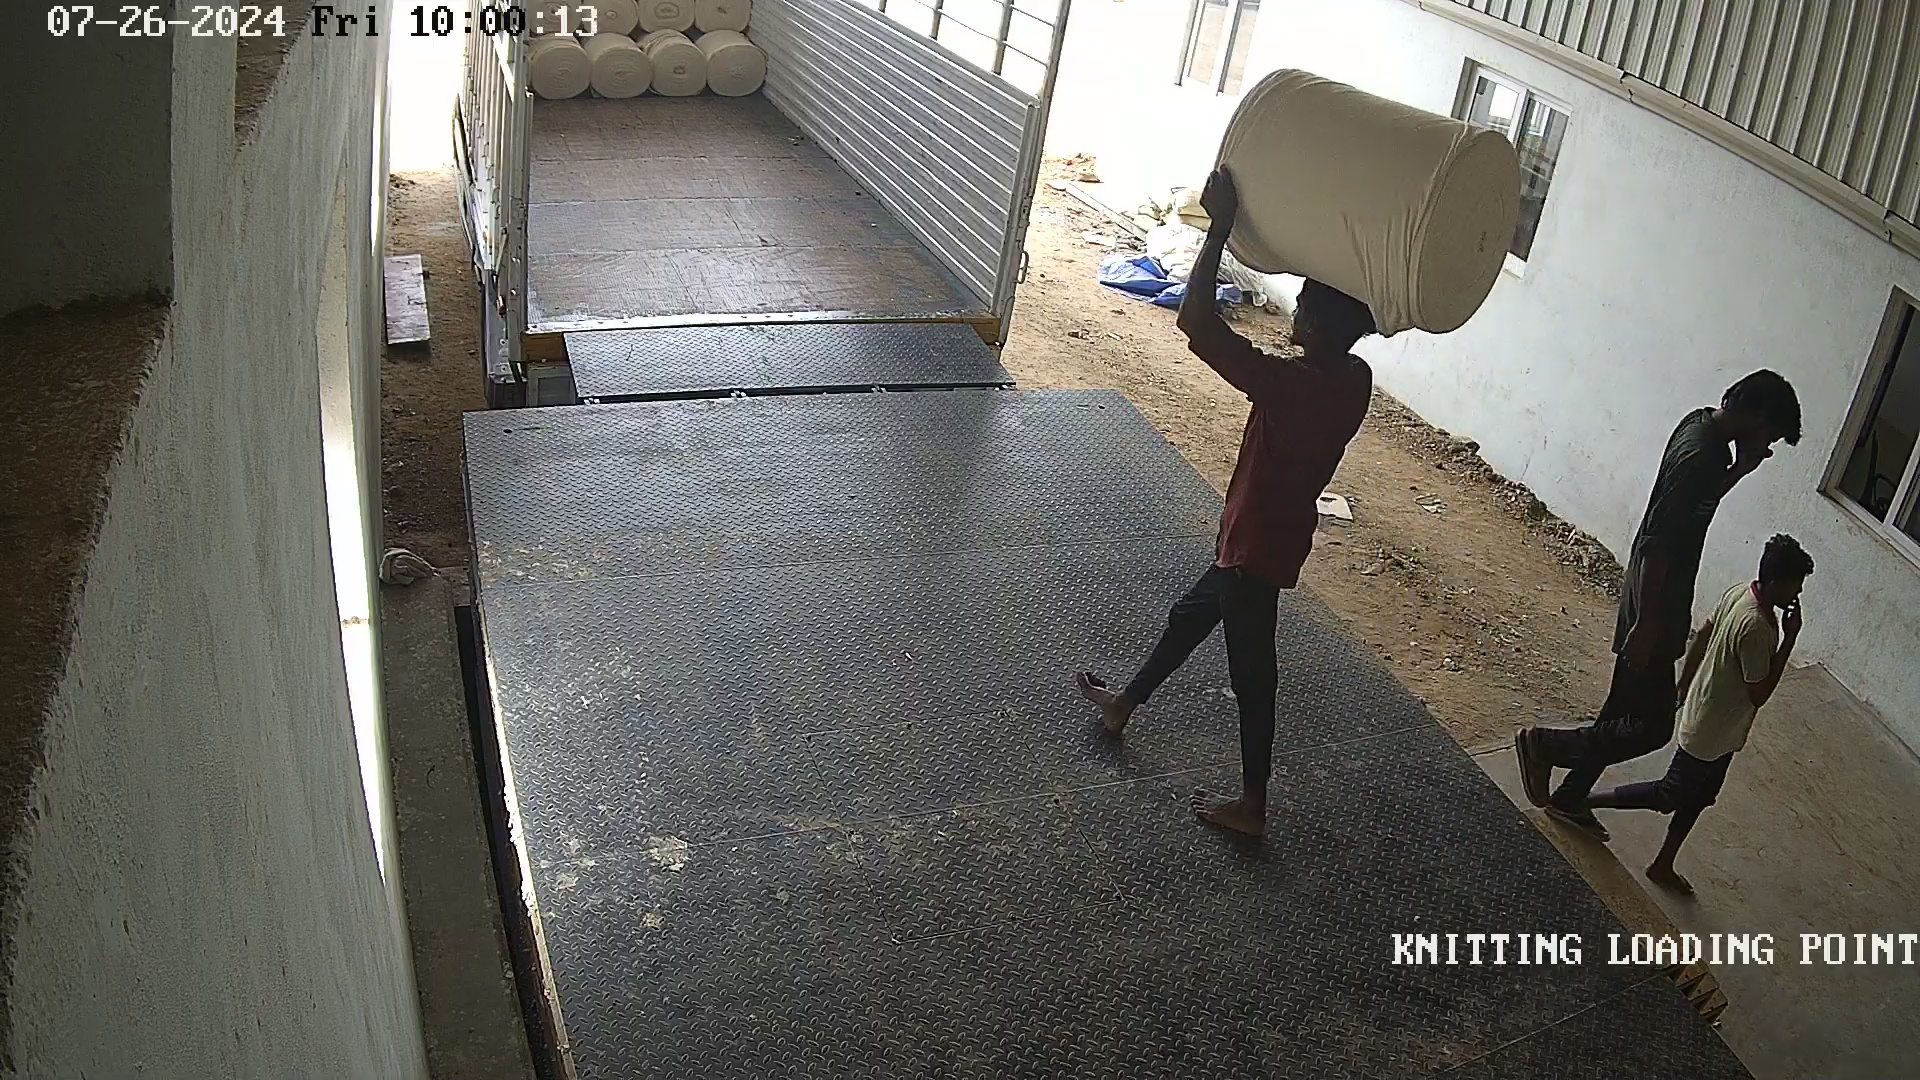bag: (1197, 58, 1528, 338)
